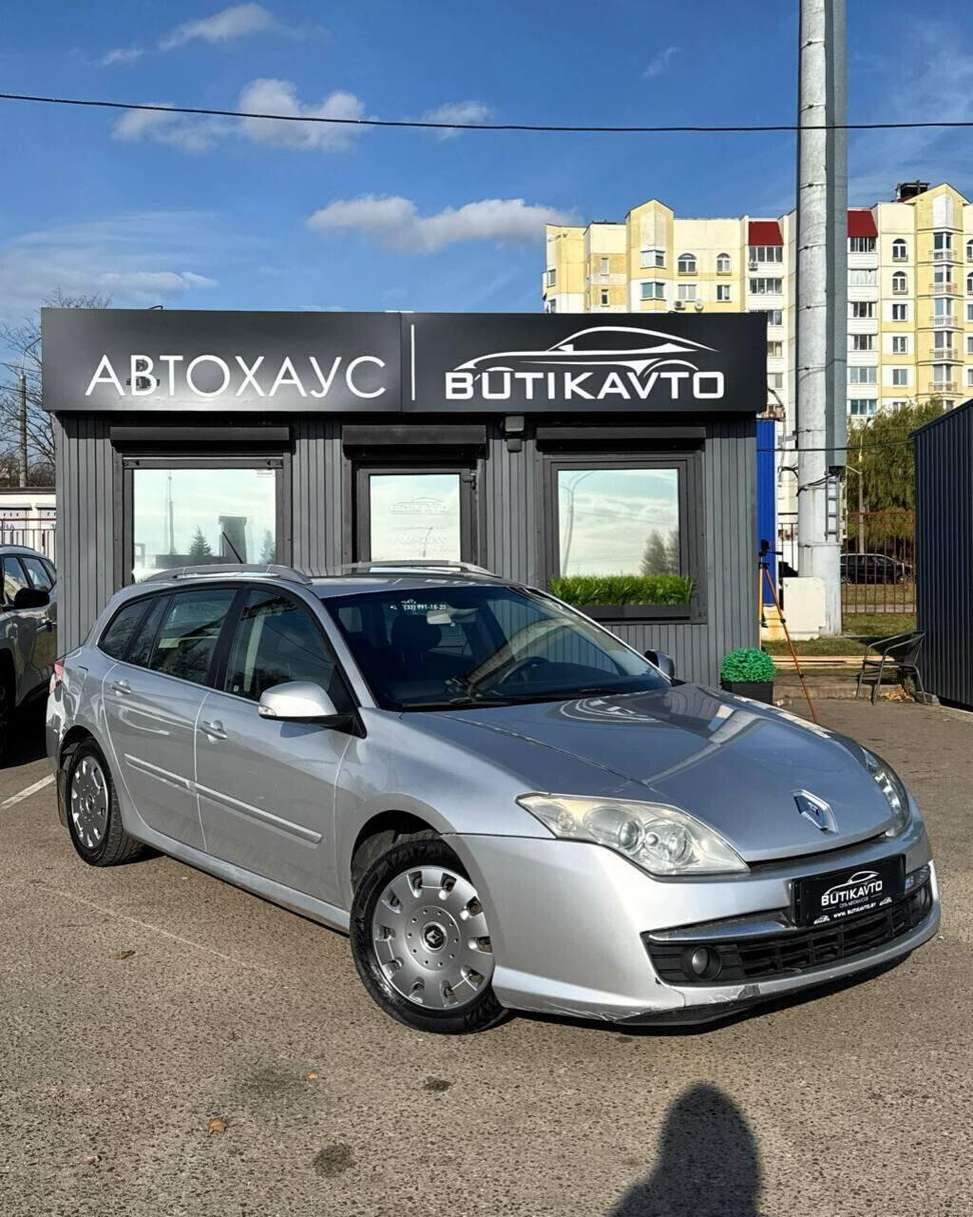Laguna_2007-2011: (47, 559, 939, 1033)
